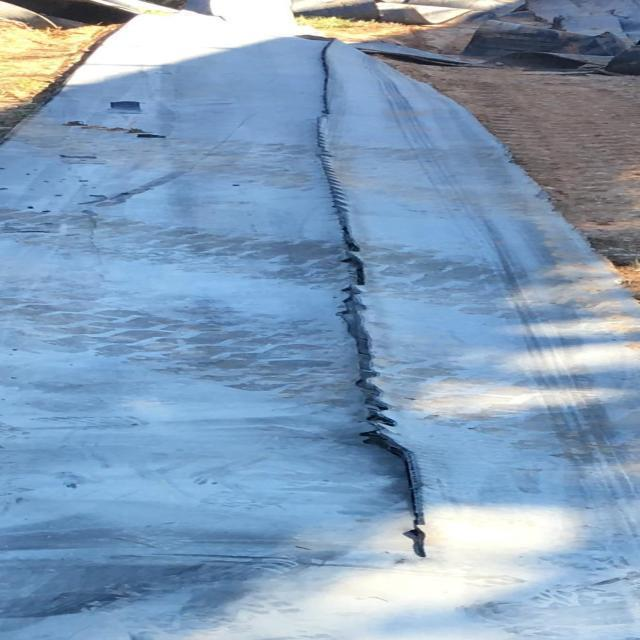Tear: (306, 39, 441, 561)
